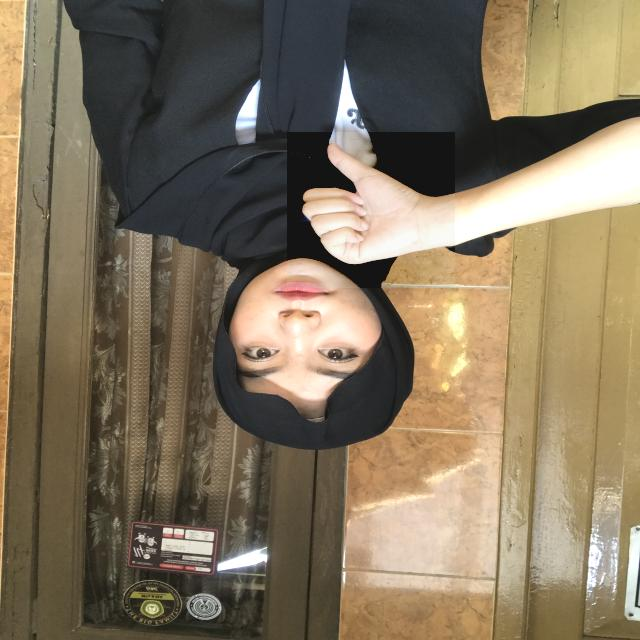sedih: (287, 132, 455, 288)
